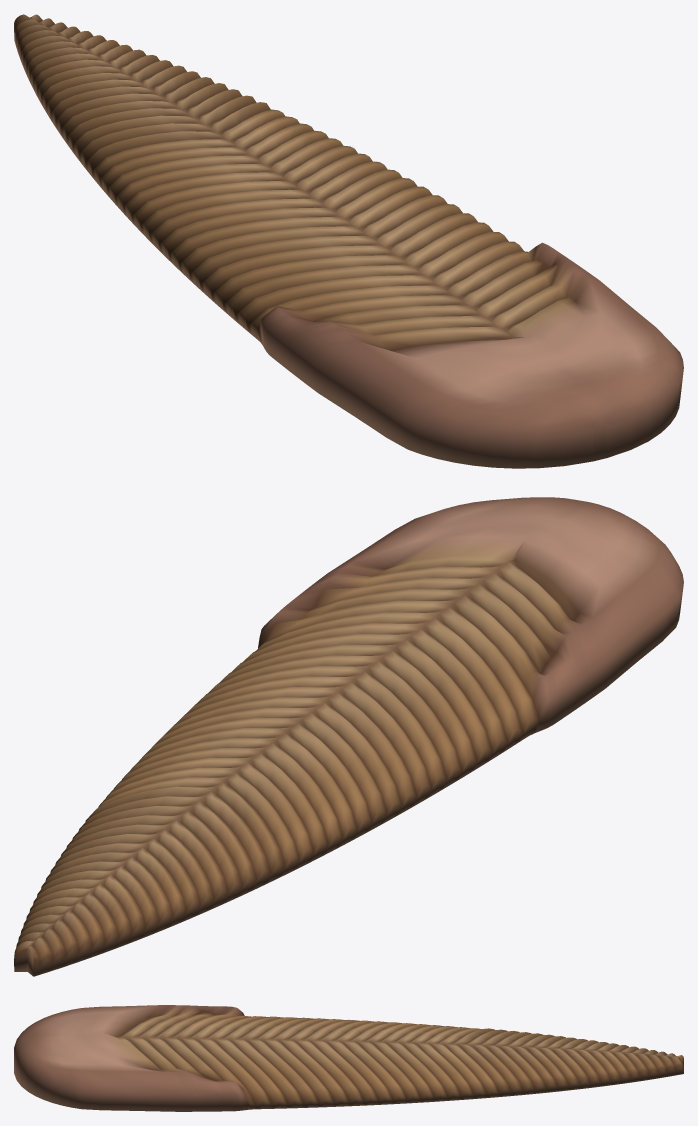
File: Spriggina.fbx
3 views of the same model, one above another, from view 1: azimuth 30°, elevation 25°; view 2: azimuth 150°, elevation 25°; view 3: azimuth 270°, elevation 25° (orthographic). The views are drawn at different scales.
Visible parts, largest first — view 1: Spriggina; view 2: Spriggina; view 3: Spriggina.
Part boxes in pixels (left/top/right/bottom): Spriggina: left=14, top=14, right=683, bottom=468; Spriggina: left=14, top=497, right=683, bottom=976; Spriggina: left=14, top=1005, right=683, bottom=1111.
Bounding box in the file's own units: 0.4887 × 0.1057 × 1.65.
